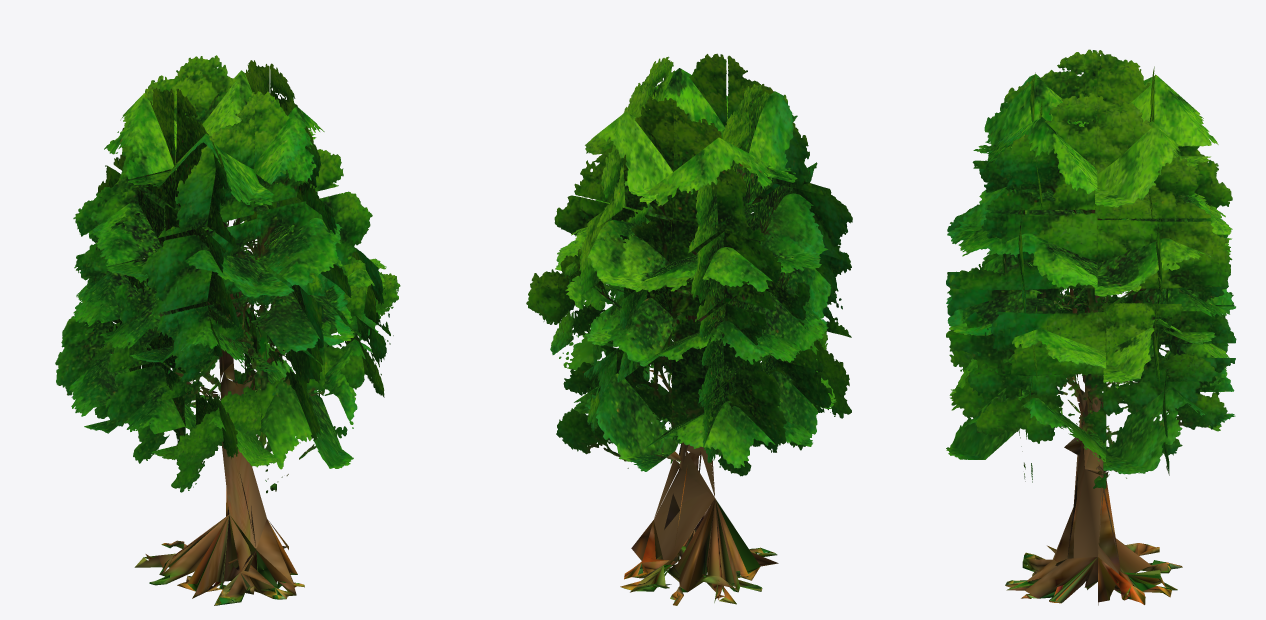
Rendered from tree-4815-far.glb.
3 renders of one model, left to right at view 1: azimuth 30°, elevation 25°; view 2: azimuth 150°, elevation 25°; view 3: azimuth 270°, elevation 25°, orthographic. The views are drawn at different scales.
Visible parts, largest first — view 1: Foliage, Wood; view 2: Foliage, Wood; view 3: Foliage, Wood.
Boxes of the visible parts, x1,y1,x2,y2 form: Foliage: (55, 55, 400, 493); Wood: (134, 182, 304, 605); Foliage: (526, 53, 852, 476); Wood: (620, 251, 778, 605); Foliage: (946, 49, 1236, 489); Wood: (1005, 210, 1182, 605).
Size of the model in its own units: 7.66 by 12.22 by 6.89.
2 materials, 2 textured.
